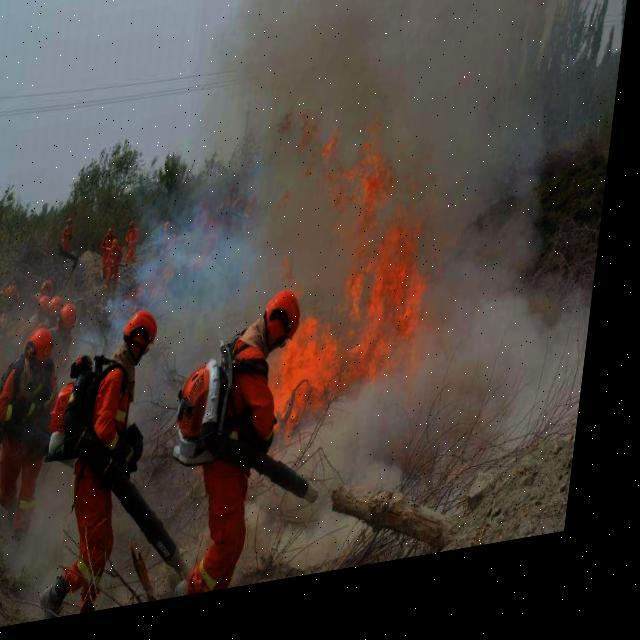Fire: (242, 102, 460, 446)
